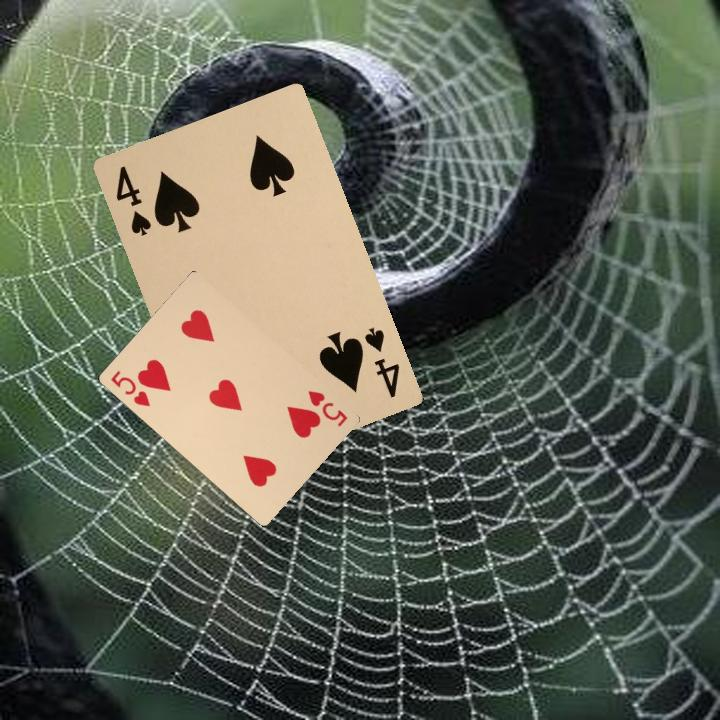4s: (360, 323, 402, 401), (112, 161, 154, 238)
5h: (106, 366, 153, 409), (304, 386, 350, 429)
